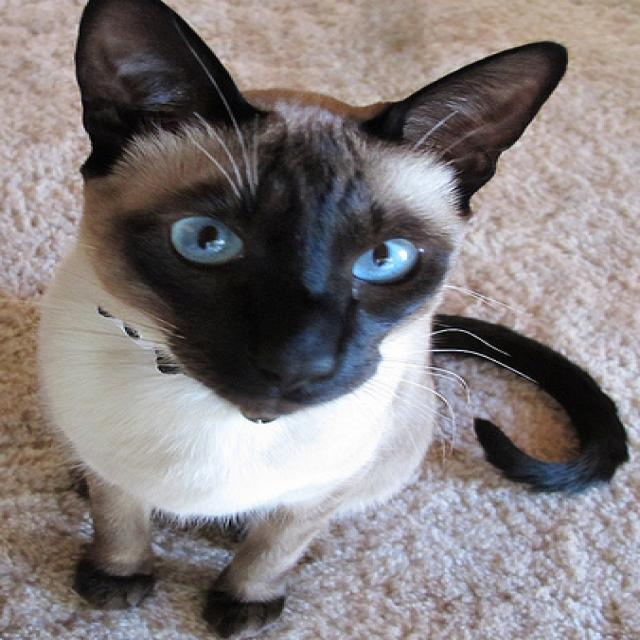Siamese: (30, 0, 632, 640)
